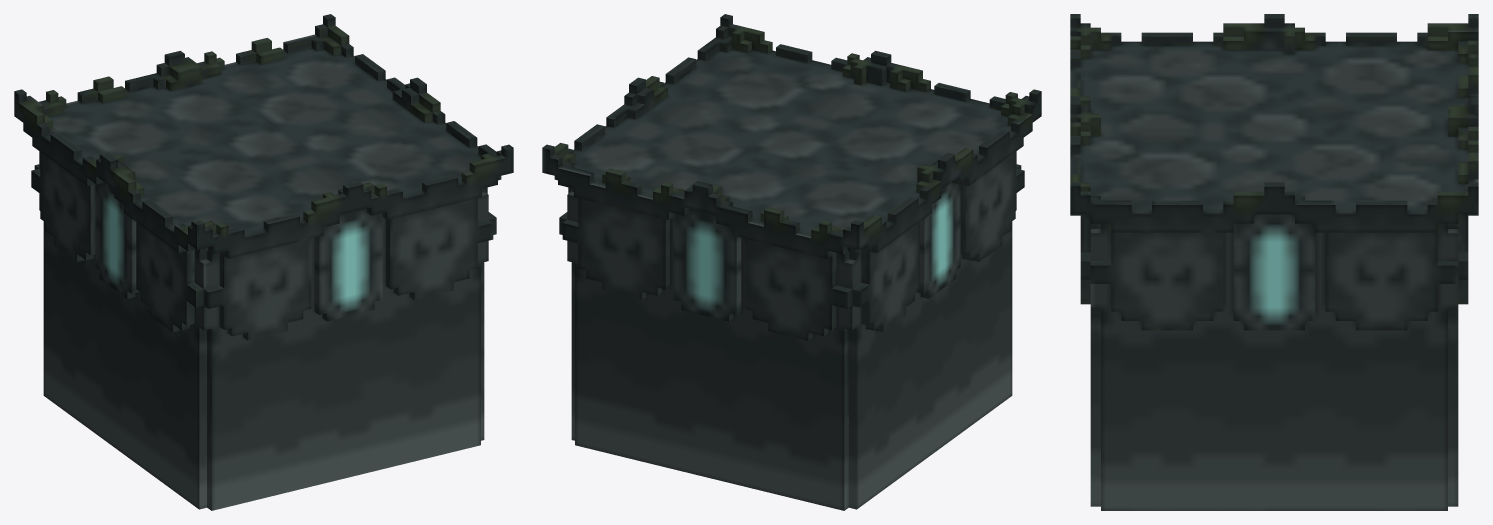
File: big_island.fbx
3 renders of one model, left to right at view 1: azimuth 30°, elevation 25°; view 2: azimuth 150°, elevation 25°; view 3: azimuth 270°, elevation 25°, orthographic. The views are drawn at different scales.
Parts seen in each view (by area): view 1: big_island.001; view 2: big_island.001; view 3: big_island.001.
Boxes of the visible parts, x1,y1,x2,y2 form: big_island.001: (14, 14, 513, 510); big_island.001: (542, 14, 1041, 510); big_island.001: (1070, 14, 1478, 510).
Bounding box in the file's own units: 4 × 3.6 × 4.
Materials: 1 (1 with a texture image).
